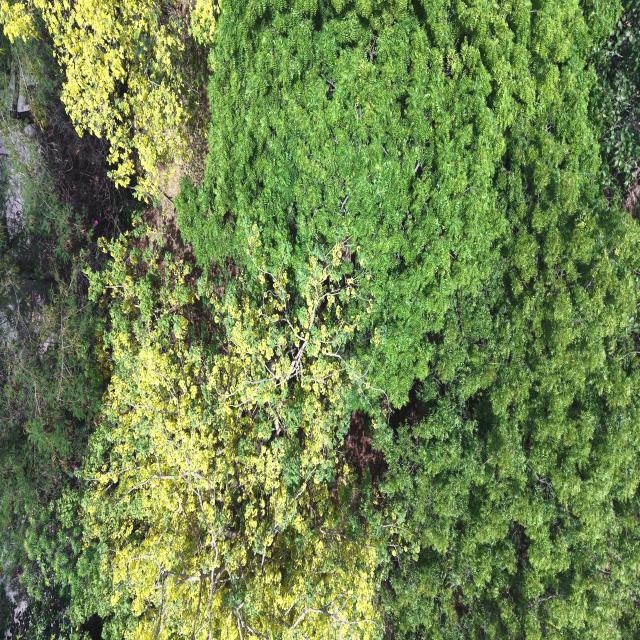VEGETATION_TREE: (0, 0, 639, 639), (176, 0, 639, 638), (81, 228, 379, 638), (0, 40, 131, 637), (0, 0, 218, 199), (594, 0, 639, 215)
